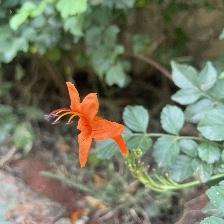honeysuckle: (45, 80, 132, 170)
